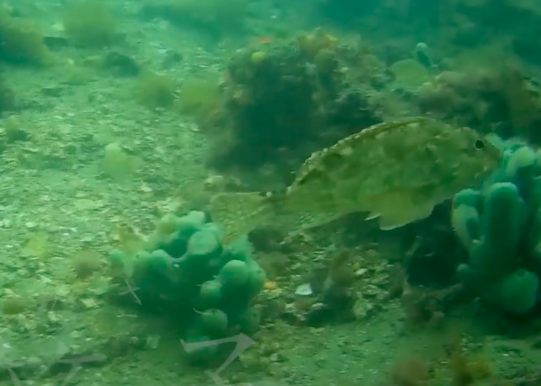mebaru: (224, 109, 503, 243)
